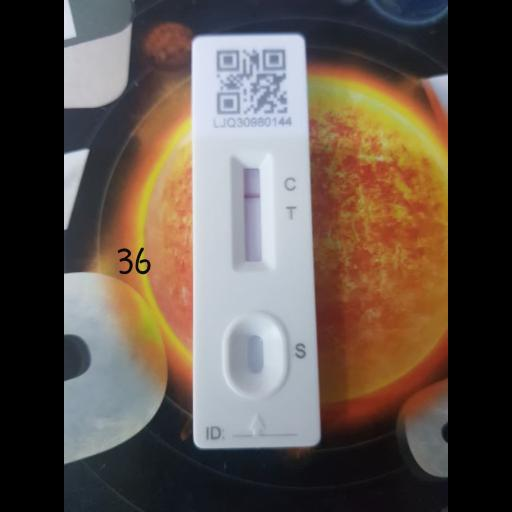Neg: (192, 34, 322, 446)
